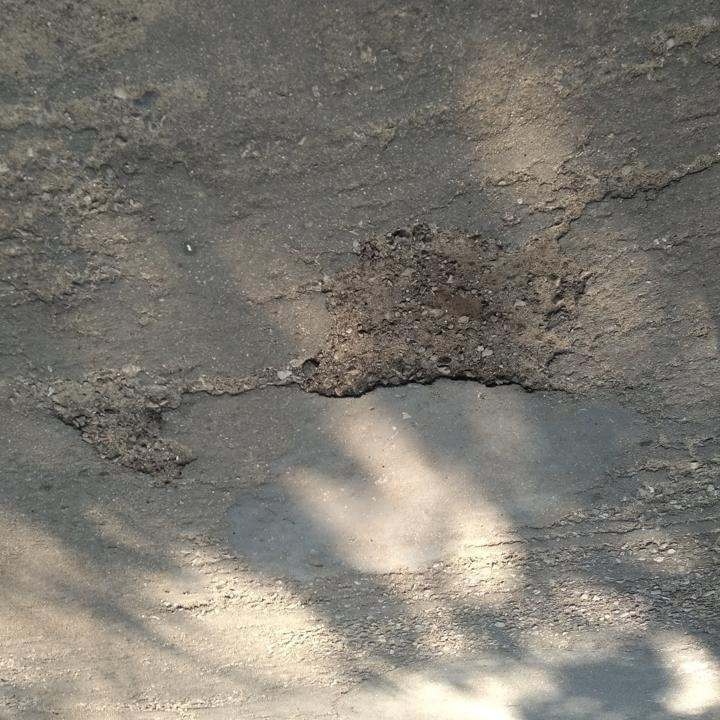pothole: (303, 212, 596, 407), (45, 362, 199, 482)
